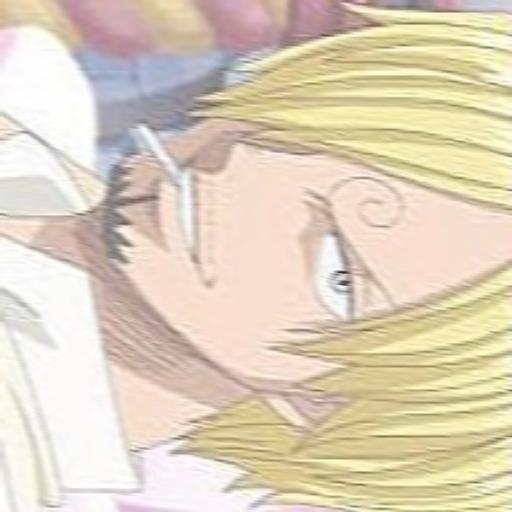sanji: (0, 12, 505, 512)
